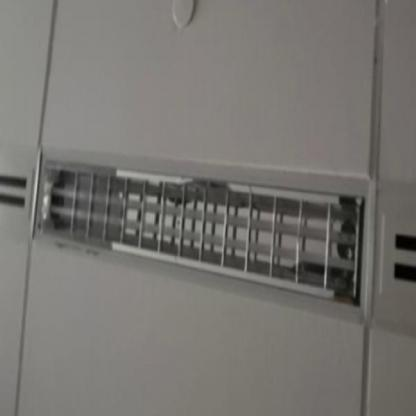light_off: (26, 143, 377, 318)
